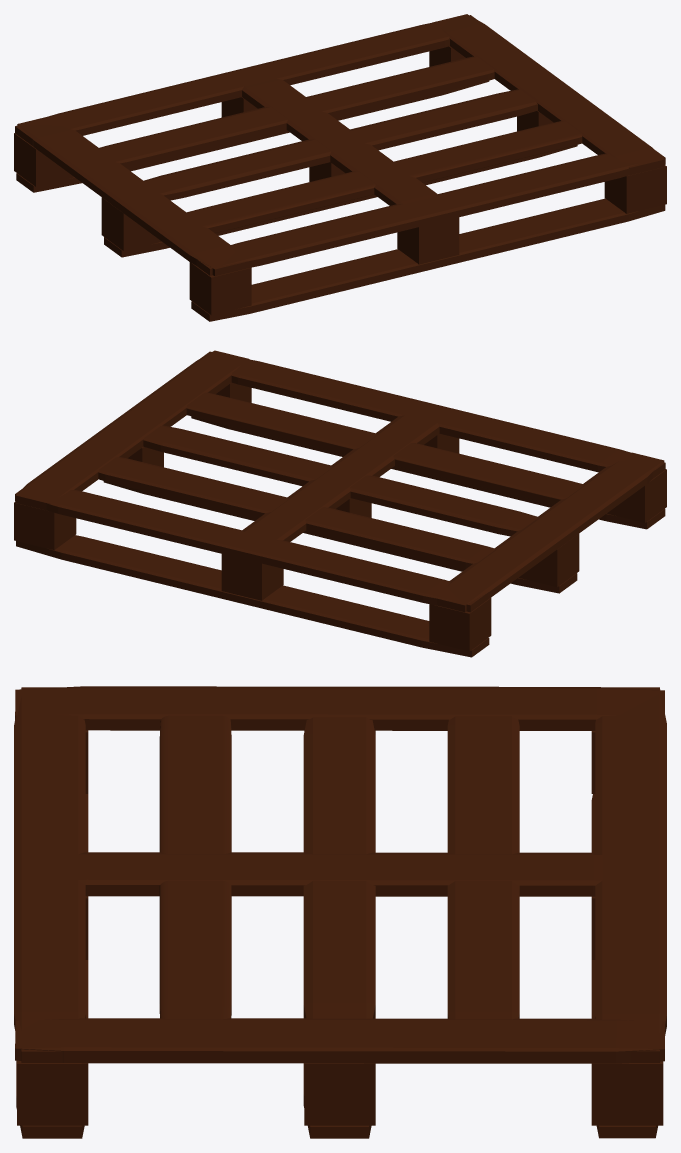
The model's file is pallet.obj.
3 renders of one model, top to bottom at view 1: azimuth 30°, elevation 25°; view 2: azimuth 150°, elevation 25°; view 3: azimuth 270°, elevation 25°, orthographic. The views are drawn at different scales.
Parts seen in each view (by area): view 1: Cube.003, Cube, Cube.007, Cube.002, Cube.001, Cube.004, Cube.008, Cube.010, Cube.009, Куб.008, Куб.007, Куб.006 (+8 smaller); view 2: Cube, Cube.003, Cube.005, Cube.002, Cube.001, Cube.004, Cube.008, Cube.010, Cube.009, Куб.002, Куб.001, Куб (+7 smaller); view 3: Cube.010, Cube.008, Cube, Cube.003, Cube.001, Cube.002, Cube.004, Cube.009, Куб.001, Куб.007, Куб.004, Cube.005 (+2 smaller).
Part boxes in pixels (<box>): Cube.003: <box>196,150,665,275</box>; Cube: <box>15,15,476,145</box>; Cube.007: <box>191,198,665,321</box>; Cube.002: <box>98,56,494,168</box>; Cube.001: <box>185,121,582,232</box>; Cube.004: <box>143,89,537,200</box>; Cube.008: <box>17,116,247,276</box>; Cube.010: <box>432,14,664,175</box>; Cube.009: <box>242,78,437,205</box>; Куб.008: <box>189,262,251,315</box>; Куб.007: <box>604,165,666,213</box>; Куб.006: <box>397,217,459,264</box>; Cube: <box>15,489,487,612</box>; Cube.003: <box>200,351,665,478</box>; Cube.005: <box>16,535,489,657</box>; Cube.002: <box>98,457,494,569</box>; Cube.001: <box>186,392,583,504</box>; Cube.004: <box>143,425,537,536</box>; Cube.008: <box>435,452,664,612</box>; Cube.010: <box>15,350,249,510</box>; Cube.009: <box>242,415,439,541</box>; Куб.002: <box>429,598,491,651</box>; Куб.001: <box>14,502,76,550</box>; Куб: <box>221,554,283,600</box>; Cube.010: <box>15,1018,664,1063</box>; Cube.008: <box>15,686,664,730</box>; Cube: <box>595,687,666,1062</box>; Cube.003: <box>14,687,85,1062</box>; Cube.001: <box>159,715,231,1019</box>; Cube.002: <box>447,716,519,1019</box>; Cube.004: <box>303,717,375,1018</box>; Cube.009: <box>76,852,603,896</box>; Куб.001: <box>591,1061,663,1125</box>; Куб.007: <box>17,1060,88,1125</box>; Куб.004: <box>304,1063,375,1125</box>; Cube.005: <box>591,794,657,1138</box>.
Size of the model in its own units: 5.76 by 0.6615 by 4.35.
